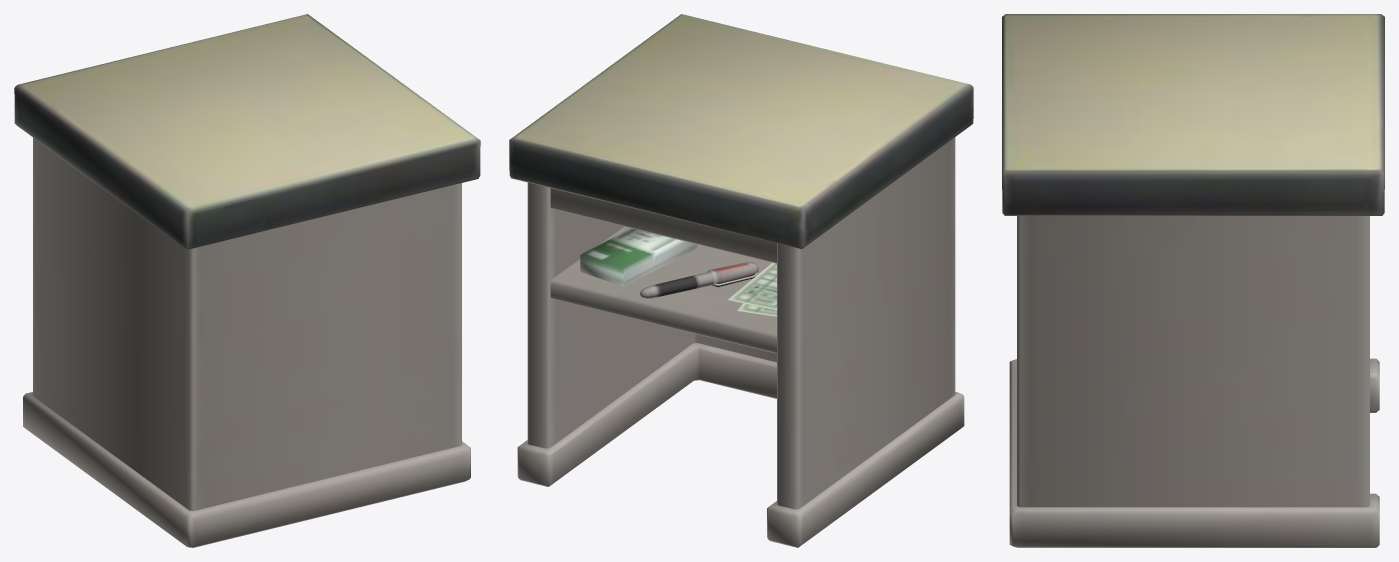
3 views of the same model, side by side, from view 1: azimuth 30°, elevation 25°; view 2: azimuth 150°, elevation 25°; view 3: azimuth 270°, elevation 25° (orthographic). The views are drawn at different scales.
Bounding box in the file's own units: 7.92 × 8.79 × 8.02.
1 material, 1 textured.
